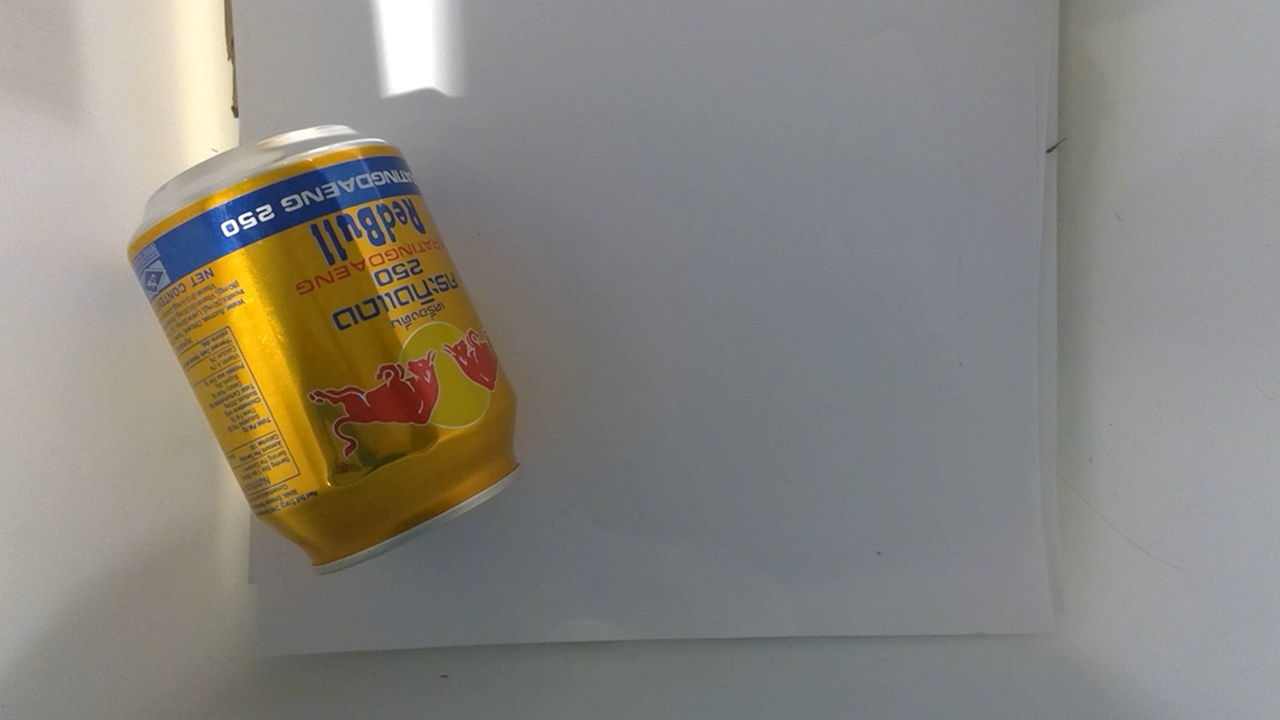bottle: (124, 103, 529, 582)
